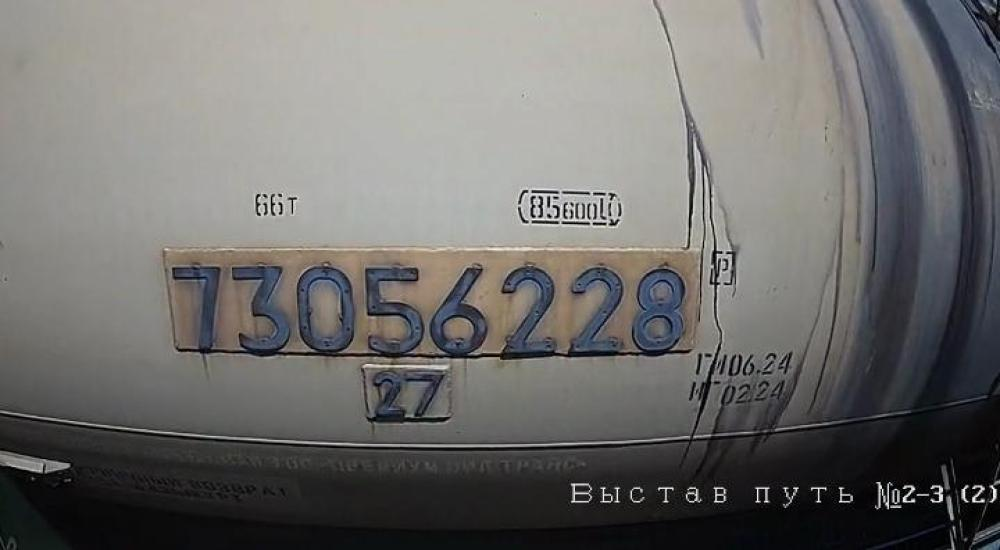Wagon-number: (167, 247, 689, 361)
